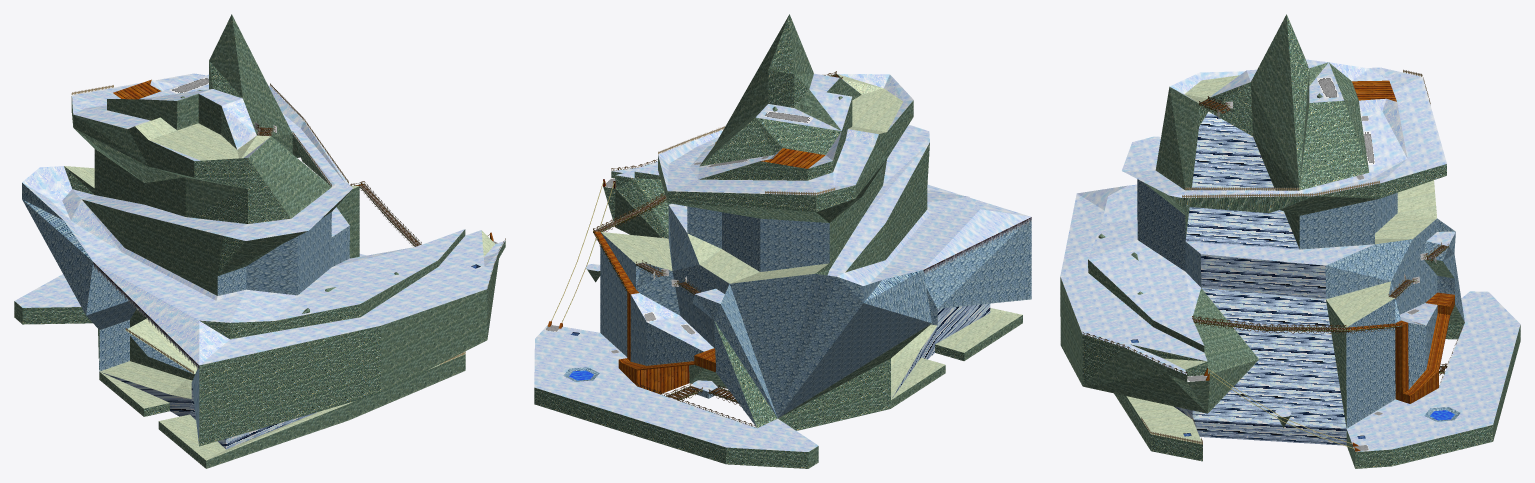
File: coocoolmountain.obj
3 views of the same model, side by side, from view 1: azimuth 30°, elevation 25°; view 2: azimuth 150°, elevation 25°; view 3: azimuth 270°, elevation 25° (orthographic).
Size of the model in its own units: 59.46 by 53.96 by 63.37.
25 materials, 25 textured.
